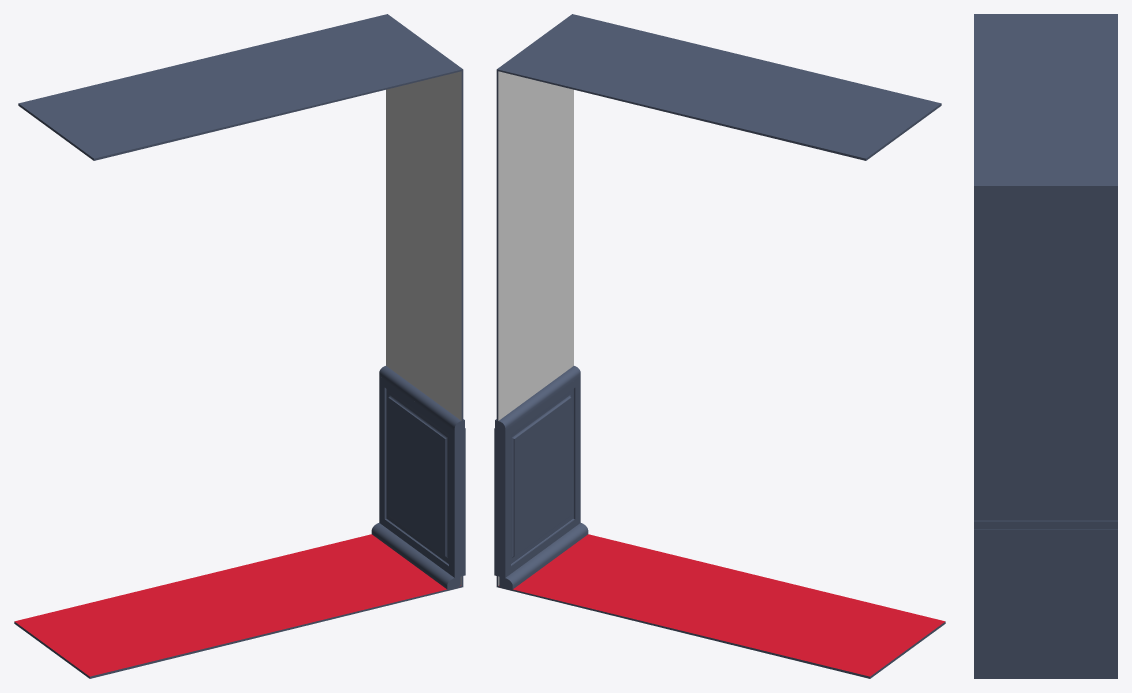
File: hotel try.fbx
The picture shows the model from 3 angles, left to right: view 1: azimuth 30°, elevation 25°; view 2: azimuth 150°, elevation 25°; view 3: azimuth 270°, elevation 25°; orthographic projection. The views are drawn at different scales.
Visible parts, largest first — view 1: Cube.026; view 2: Cube.026; view 3: Cube.026.
Boxes of the visible parts, x1,y1,x2,y2 form: Cube.026: [14, 14, 465, 678]; Cube.026: [494, 14, 945, 678]; Cube.026: [974, 14, 1117, 678].
Bounding box in the file's own units: 342 × 451 × 119.
